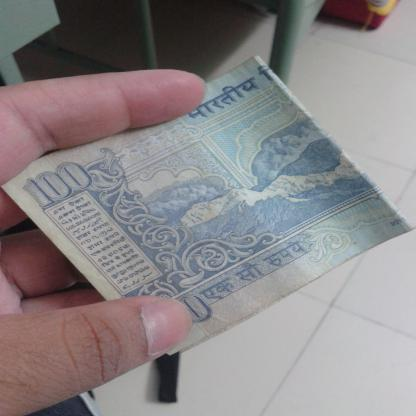Old100Back: (0, 52, 416, 357)
